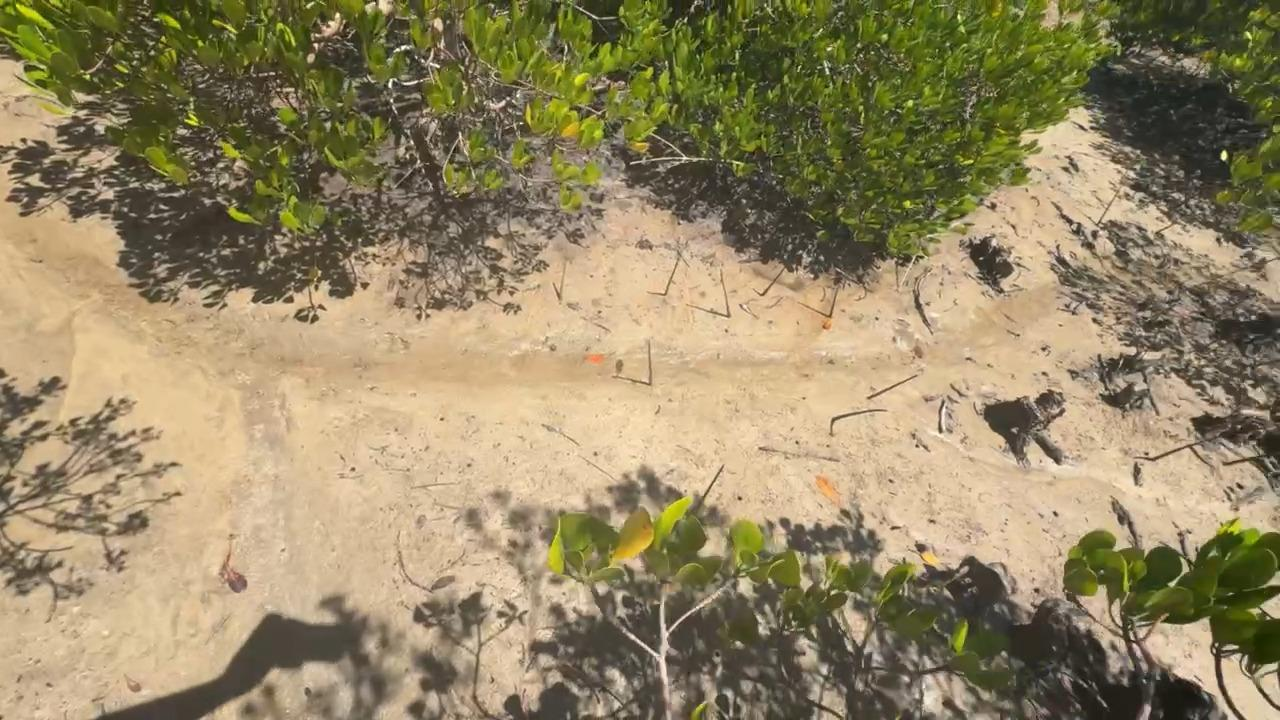Tree: (694, 464, 725, 517), (866, 375, 918, 401), (1096, 185, 1123, 227), (1151, 441, 1204, 462), (831, 408, 888, 424), (1231, 256, 1280, 274), (1222, 451, 1280, 466), (760, 267, 786, 296), (1166, 193, 1201, 214), (664, 257, 680, 296), (720, 269, 732, 319), (898, 256, 915, 288), (558, 261, 567, 305), (829, 287, 839, 318), (648, 340, 653, 386), (1156, 222, 1175, 234), (864, 286, 868, 299)
